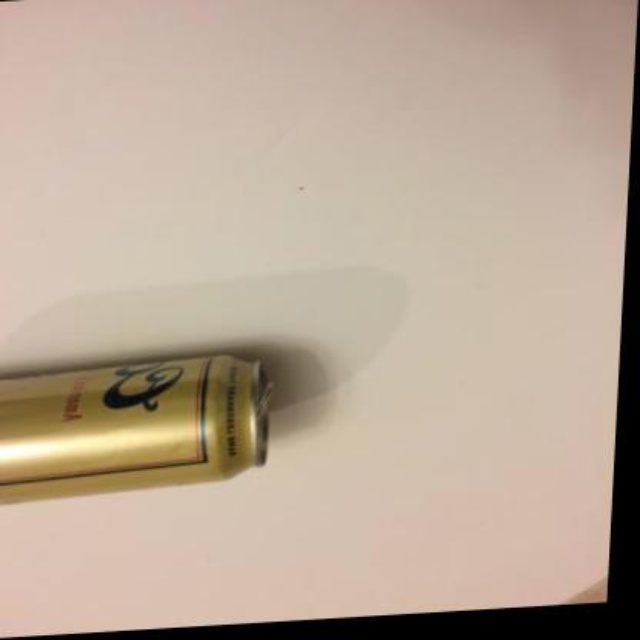trash: (0, 355, 269, 502)
